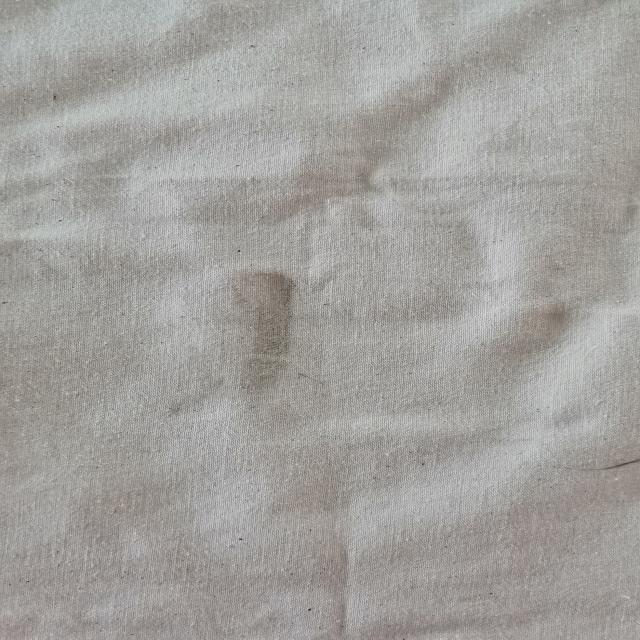taaaches: (226, 269, 293, 410), (549, 452, 640, 474), (167, 392, 214, 418), (296, 368, 333, 391)
